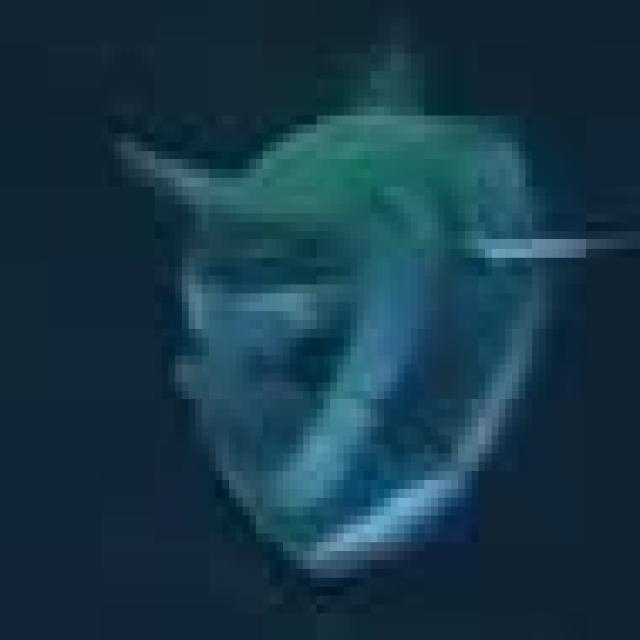fish: (0, 0, 634, 631)
